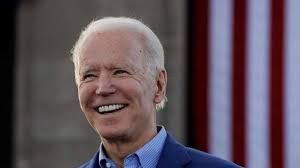No-Glasses: (78, 65, 147, 87)
